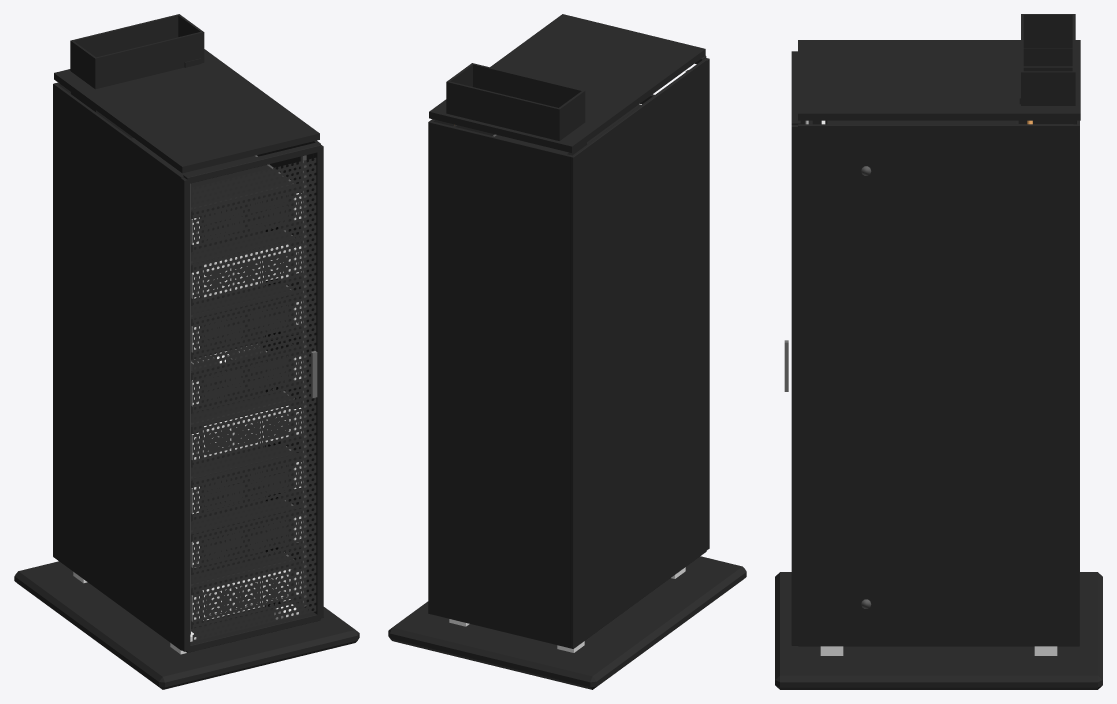
Rendered from rack.glb.
The picture shows the model from 3 angles, left to right: view 1: azimuth 30°, elevation 25°; view 2: azimuth 150°, elevation 25°; view 3: azimuth 270°, elevation 25°; orthographic projection. The views are drawn at different scales.
Visible parts, largest first — view 1: GN_RACK_FRAME_Graphite, GN_RACK_DOOR_Grille, GN_RACK_FRAME_Platform, GN_RACK_DOOR_Graphite, GN_RACK_SERVERS_Graphite, GN_RACK_SERVERS_Grille, GN_RACK_SERVERS_Dark, GN_RACK_PANEL_Graphite, GN_RACK_FRAME_Steel, GN_RACK_TRAY_Graphite, GN_RACK_SERVERS_Steel, GN_RACK_TRAY_Grille; view 2: GN_RACK_FRAME_Graphite, GN_RACK_FRAME_Platform, GN_RACK_DOOR_Graphite, GN_RACK_PANEL_Graphite; view 3: GN_RACK_PANEL_Graphite, GN_RACK_FRAME_Graphite, GN_RACK_FRAME_Platform, GN_RACK_DOOR_Graphite, GN_RACK_SERVERS_Graphite.
Part boxes in pixels (left/top/right/bottom): GN_RACK_FRAME_Graphite: left=53, top=14, right=319, bottom=650; GN_RACK_DOOR_Grille: left=192, top=157, right=316, bottom=641; GN_RACK_FRAME_Platform: left=14, top=561, right=359, bottom=689; GN_RACK_DOOR_Graphite: left=180, top=142, right=323, bottom=652; GN_RACK_SERVERS_Graphite: left=132, top=138, right=302, bottom=628; GN_RACK_SERVERS_Grille: left=204, top=194, right=289, bottom=616; GN_RACK_SERVERS_Dark: left=191, top=193, right=301, bottom=621; GN_RACK_PANEL_Graphite: left=257, top=140, right=320, bottom=610; GN_RACK_FRAME_Steel: left=190, top=155, right=306, bottom=634; GN_RACK_TRAY_Graphite: left=191, top=337, right=302, bottom=413; GN_RACK_SERVERS_Steel: left=195, top=155, right=300, bottom=617; GN_RACK_TRAY_Grille: left=204, top=356, right=287, bottom=401; GN_RACK_FRAME_Graphite: left=429, top=14, right=706, bottom=648; GN_RACK_FRAME_Platform: left=388, top=556, right=746, bottom=689; GN_RACK_DOOR_Graphite: left=695, top=55, right=709, bottom=550; GN_RACK_PANEL_Graphite: left=428, top=119, right=494, bottom=614; GN_RACK_PANEL_Graphite: left=798, top=124, right=1079, bottom=646; GN_RACK_FRAME_Graphite: left=798, top=14, right=1080, bottom=124; GN_RACK_FRAME_Platform: left=775, top=572, right=1102, bottom=689; GN_RACK_DOOR_Graphite: left=791, top=51, right=800, bottom=645; GN_RACK_SERVERS_Graphite: left=808, top=120, right=1018, bottom=124.
Bounding box in the file's own units: 1.12 × 2.88 × 1.44.
Materials: 7 (7 with a texture image).
